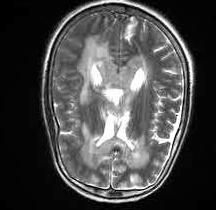Normal_Brain: (1, 1, 216, 210)
